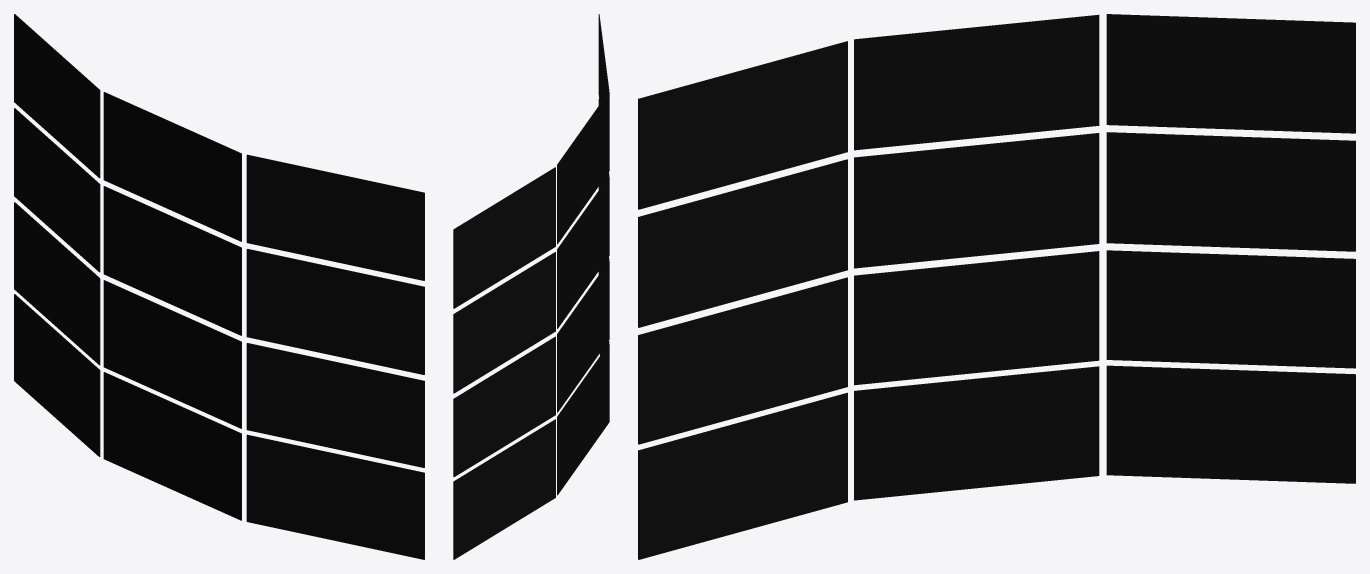
File: vidriera estante 1.fbx
3 renders of one model, left to right at view 1: azimuth 30°, elevation 25°; view 2: azimuth 150°, elevation 25°; view 3: azimuth 270°, elevation 25°, orthographic. The views are drawn at different scales.
Parts seen in each view (by area): view 1: Cube.013; view 2: Cube.013; view 3: Cube.013.
Boxes of the visible parts, left/top/right/bottom form: Cube.013: left=14, top=14, right=424, bottom=559; Cube.013: left=453, top=14, right=609, bottom=559; Cube.013: left=638, top=14, right=1355, bottom=559.
Size of the model in its own units: 159 by 400 by 564.
Materials: 1 (1 with a texture image).
